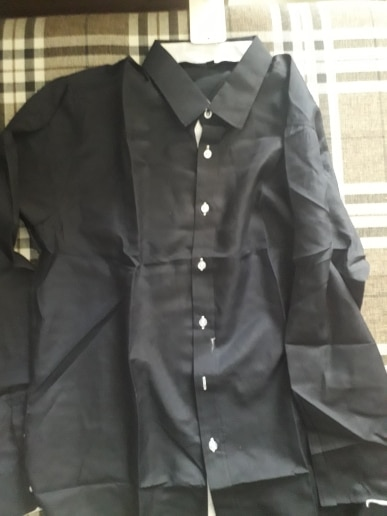shirts: (19, 33, 387, 481)
